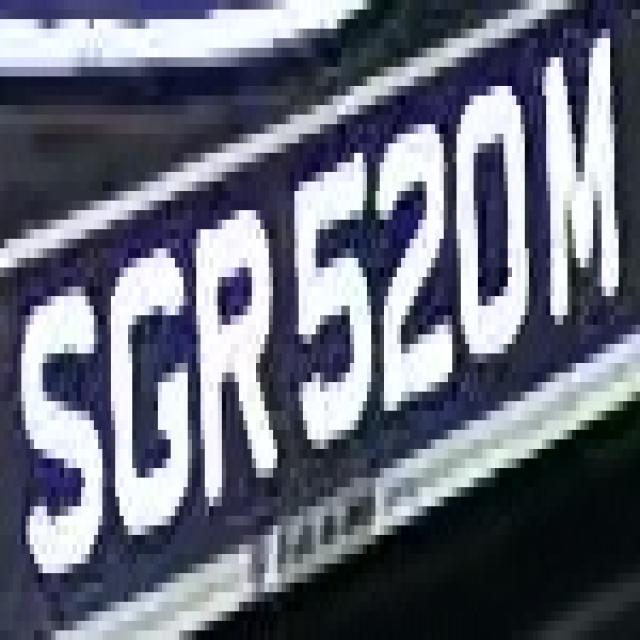0: (444, 67, 529, 392)
2: (358, 105, 461, 430)
5: (278, 134, 376, 458)
G: (102, 220, 196, 554)
M: (533, 9, 623, 334)
R: (184, 200, 278, 526)
S: (17, 258, 107, 611)
